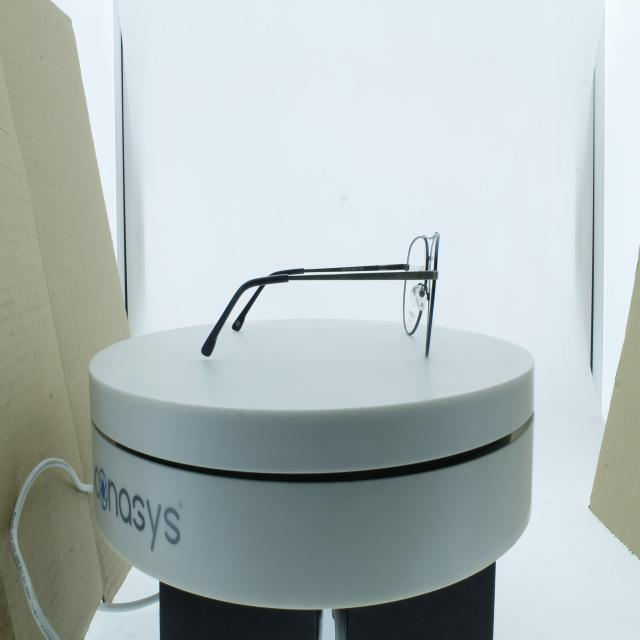Specs: (184, 175, 473, 400)
